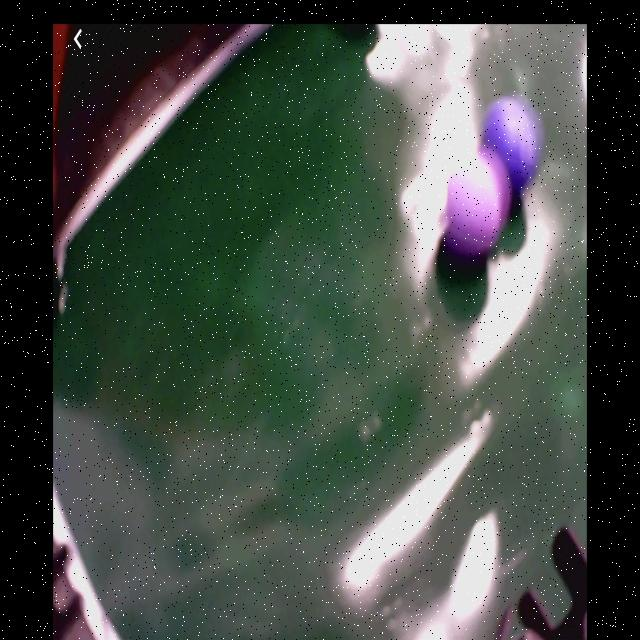ball: (445, 154, 507, 252), (482, 97, 538, 195)
